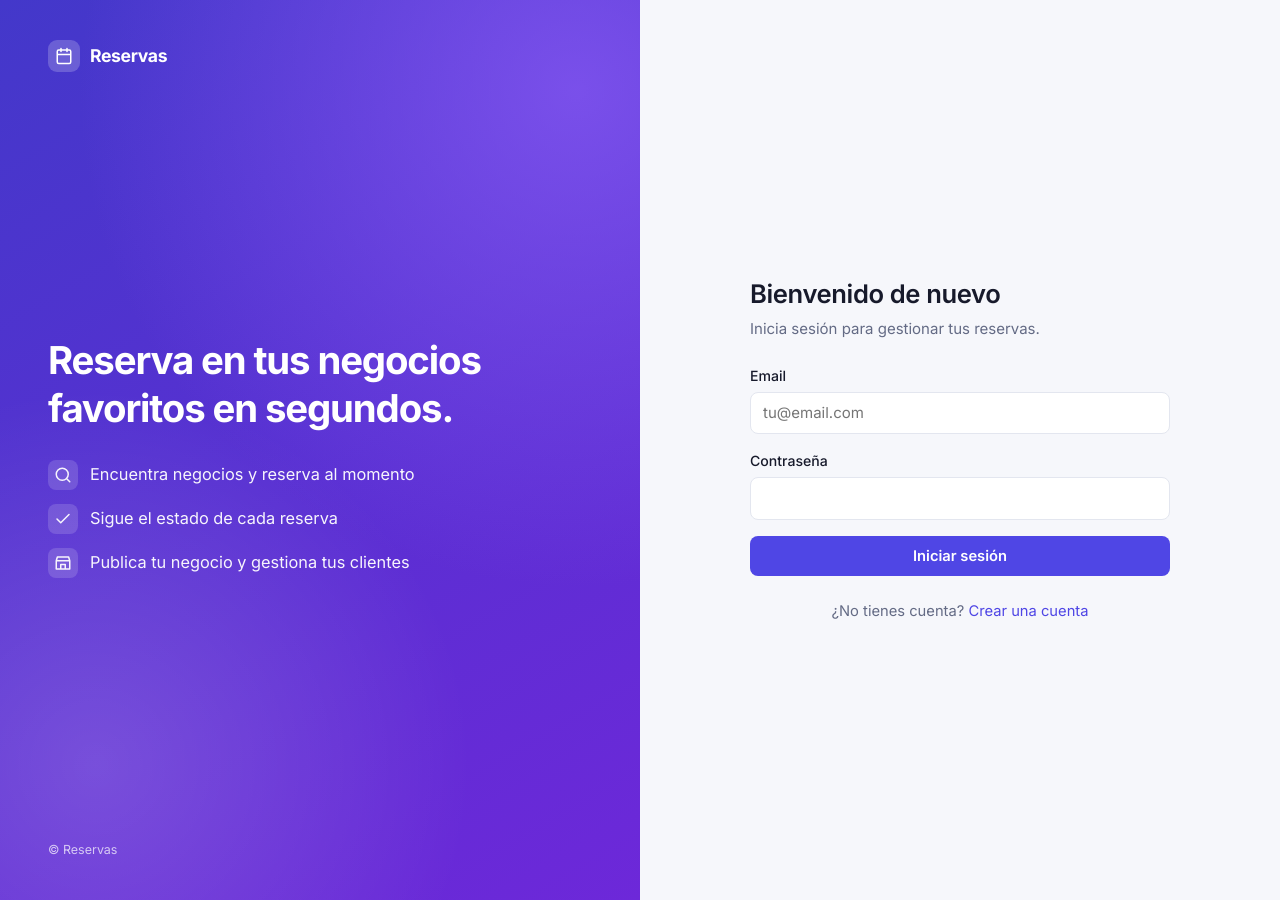
Scenario: routing and auth › shows the backend error for wrong credentials
In the field labelled "Email": (960, 413) [750, 392, 1170, 434], type "ana@example.com"
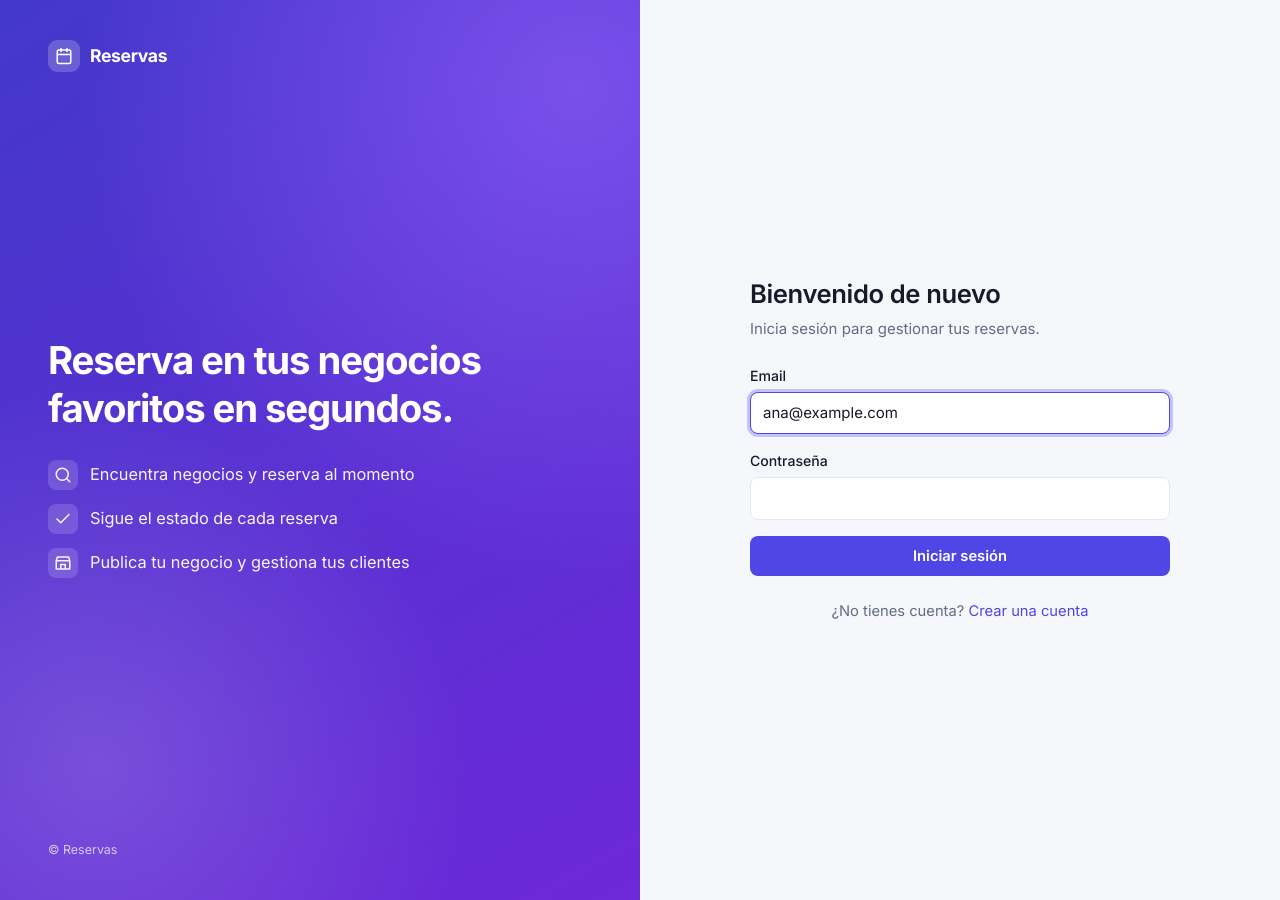
In the password field labelled "Contraseña": (960, 499) [750, 477, 1170, 520], type "Wrong123!"
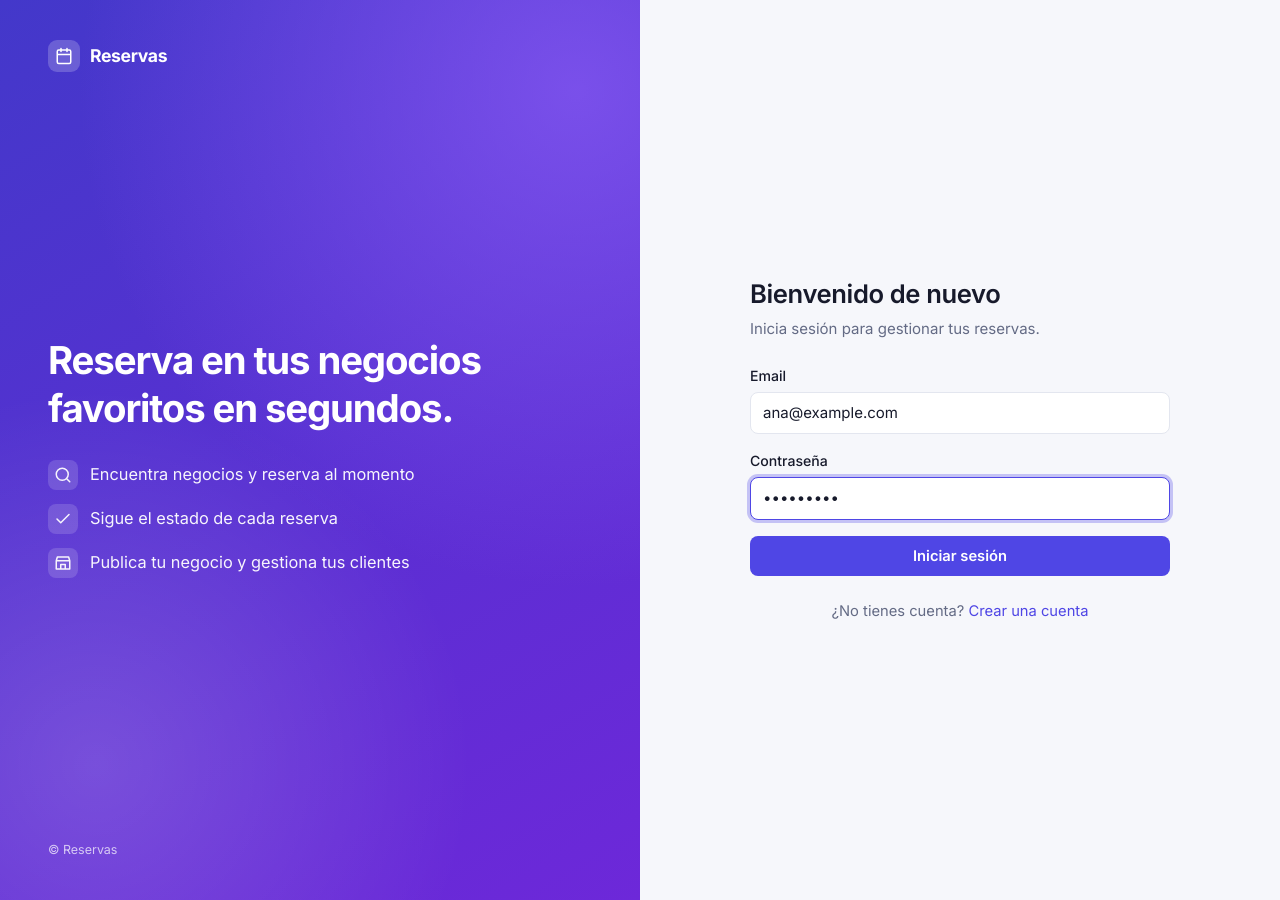
Click the button "Iniciar sesión": (960, 556) [750, 536, 1170, 576]
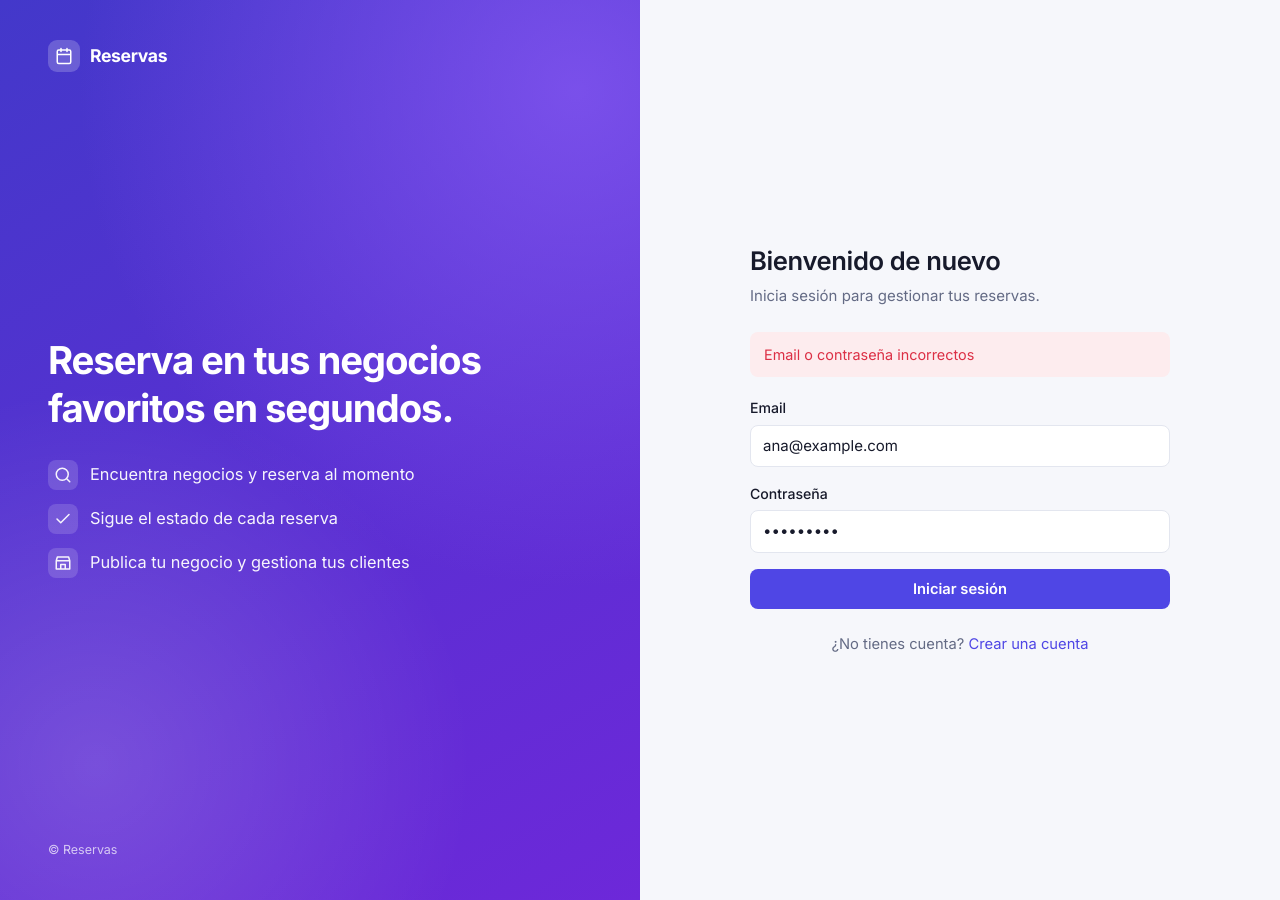
Expected: the text "Email o contraseña incorrectos" is shown, [764, 344, 974, 365]
